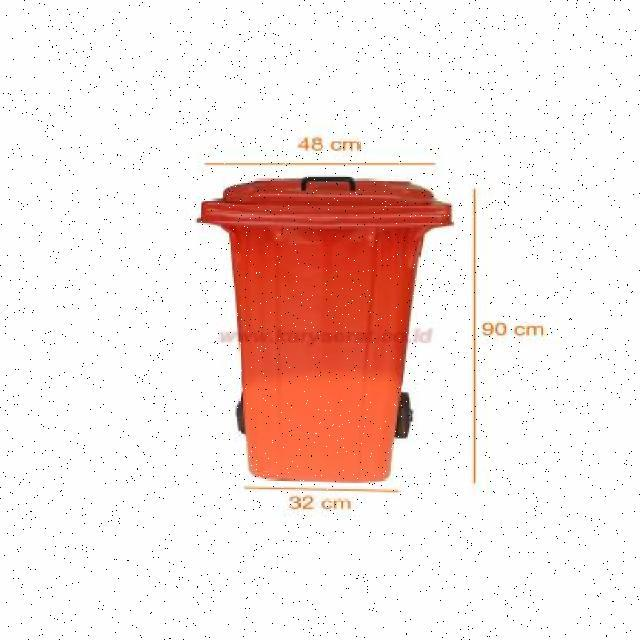garbage container: (189, 172, 463, 486)
